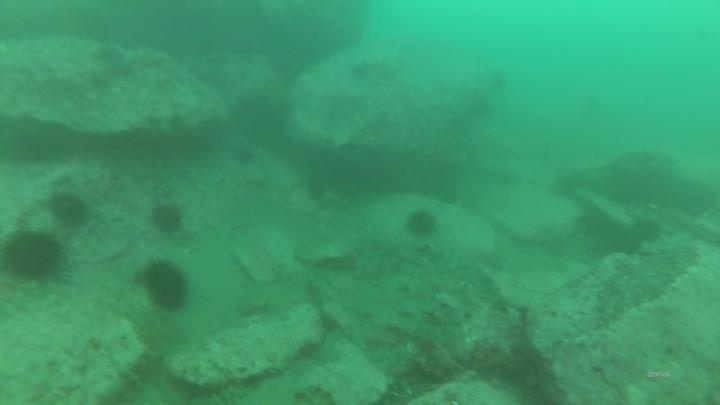echinus: (1, 226, 67, 284), (139, 257, 193, 315), (46, 189, 92, 230), (148, 200, 187, 236), (403, 207, 440, 241), (628, 215, 664, 247), (229, 142, 259, 170)
